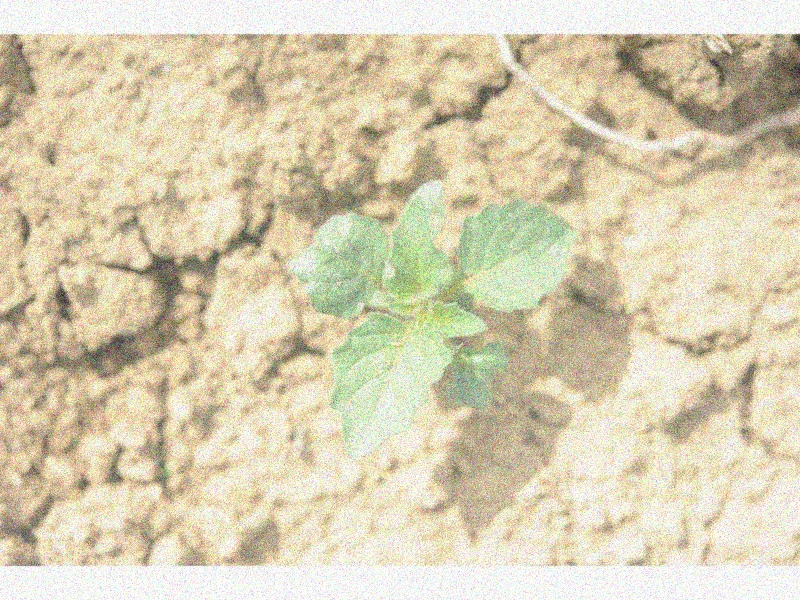nightshade: (292, 179, 574, 465)
